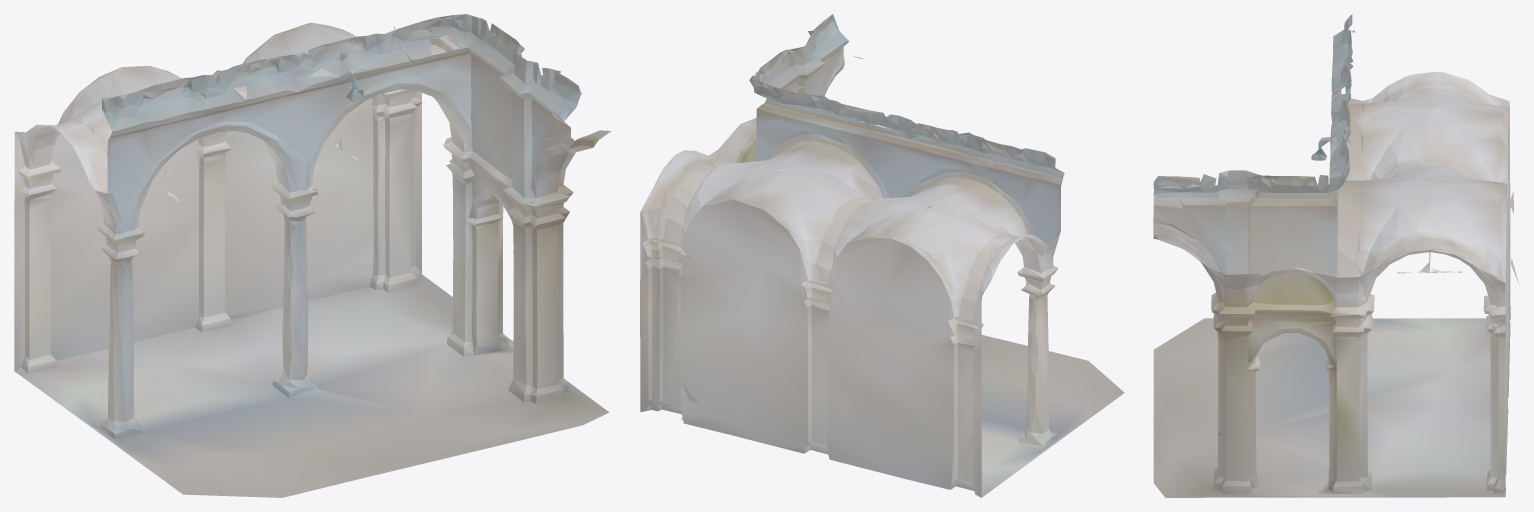
3 renders of one model, left to right at view 1: azimuth 30°, elevation 25°; view 2: azimuth 150°, elevation 25°; view 3: azimuth 270°, elevation 25°, orthographic. The views are drawn at different scales.
Bounding box in the file's own units: 10 × 8.14 × 8.65.
